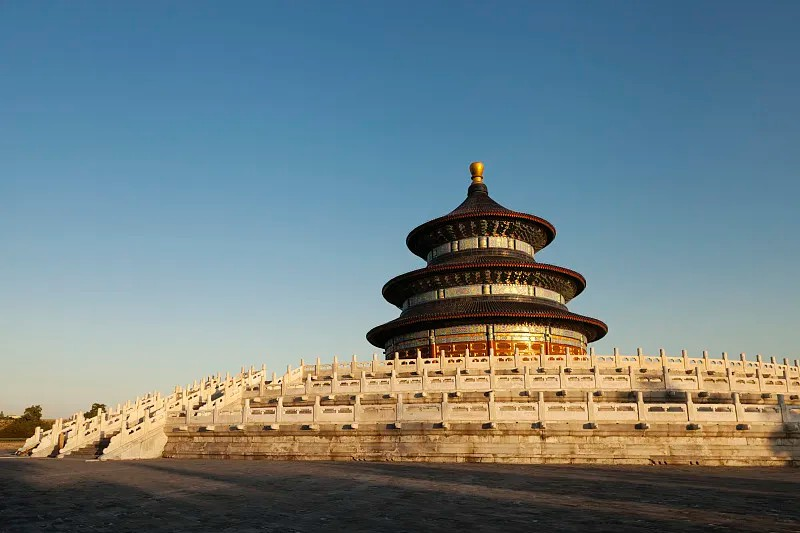Heaven: (365, 159, 609, 362)
